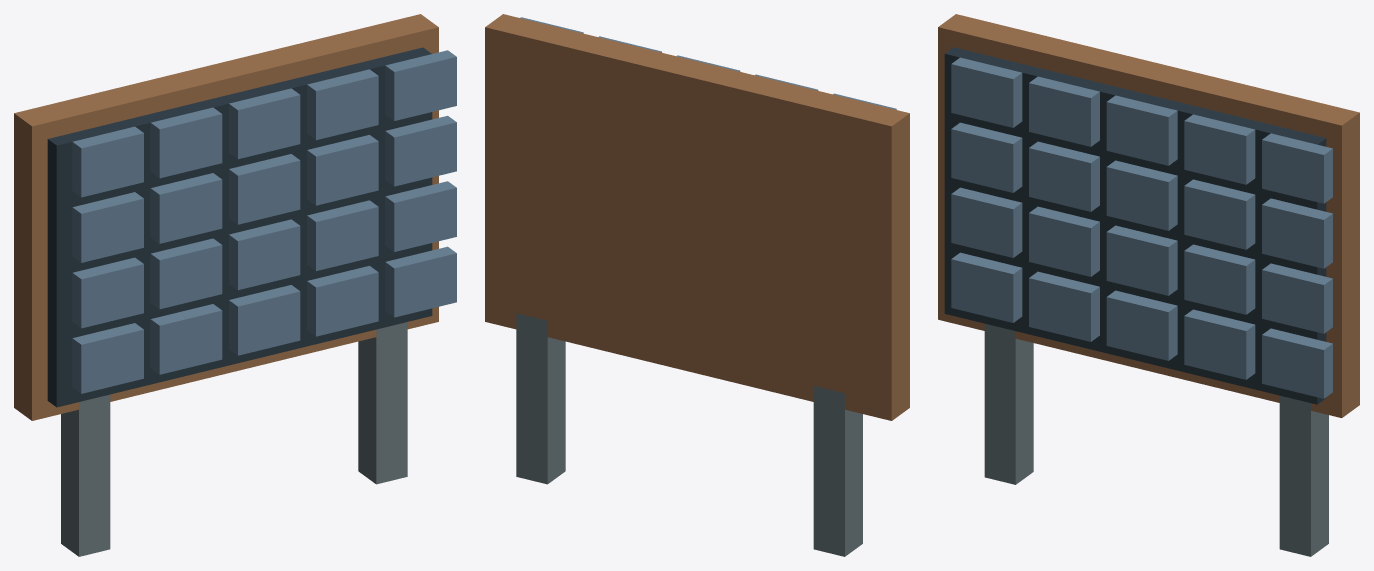
The model's file is energy-02.glb.
3 renders of one model, left to right at view 1: azimuth 30°, elevation 25°; view 2: azimuth 150°, elevation 25°; view 3: azimuth 330°, elevation 25°, orthographic.
Visible parts, largest first — view 1: Solar array; view 2: Solar array; view 3: Solar array.
Part boxes in pixels (x1,y1,x2,y2): Solar array: (14, 14, 456, 556); Solar array: (485, 14, 909, 556); Solar array: (938, 14, 1359, 556).
Size of the model in its own units: 2.08 by 2.16 by 0.32.
